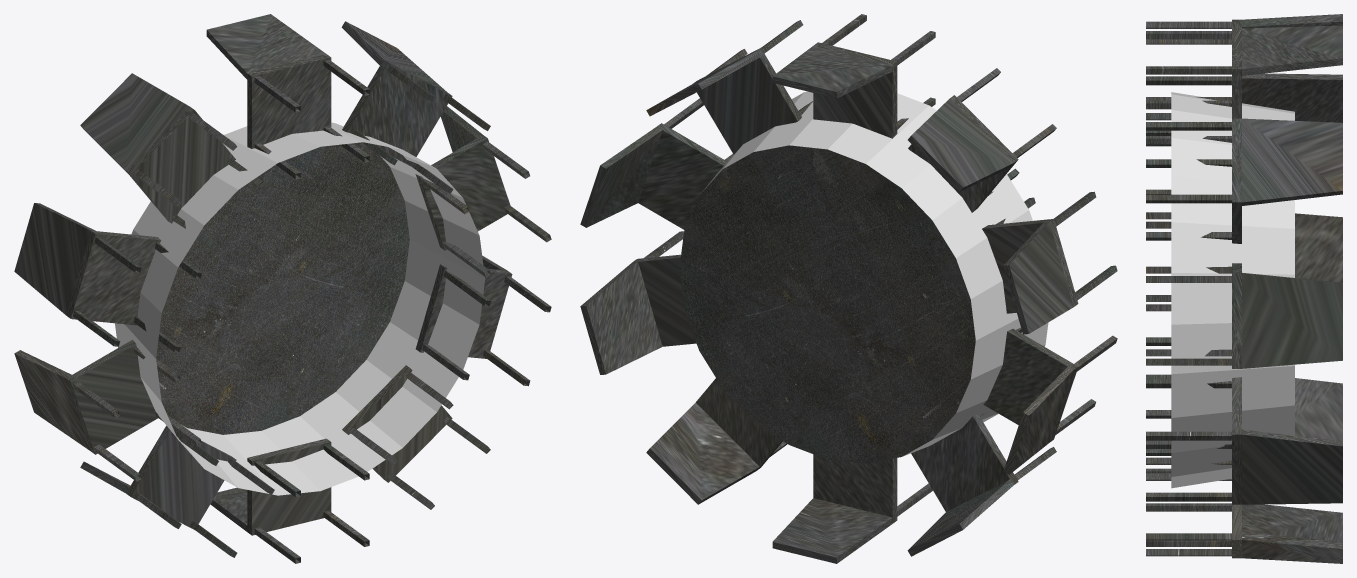
Rendered from table.fbx.
The picture shows the model from 3 angles, left to right: view 1: azimuth 30°, elevation 25°; view 2: azimuth 150°, elevation 25°; view 3: azimuth 270°, elevation 25°; orthographic projection. The views are drawn at different scales.
Parts seen in each view (by area): view 1: $$$DUMMY.object; view 2: $$$DUMMY.object; view 3: $$$DUMMY.object.
Boxes of the visible parts, left/top/right/bottom form: $$$DUMMY.object: left=14, top=14, right=551, bottom=563; $$$DUMMY.object: left=580, top=14, right=1117, bottom=563; $$$DUMMY.object: left=1146, top=14, right=1342, bottom=563.
Size of the model in its own units: 273 by 274 by 99.06.
3 materials, 2 textured.
